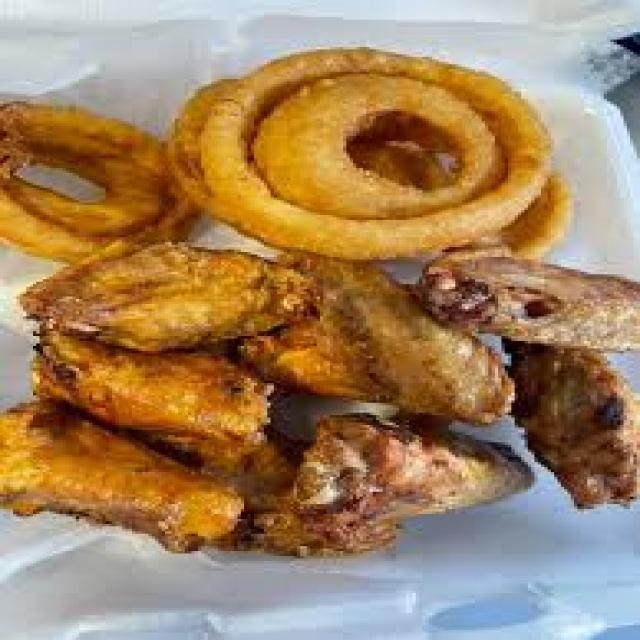Chicken Wings: (2, 236, 640, 563)
Onion Rings: (1, 40, 634, 264)
